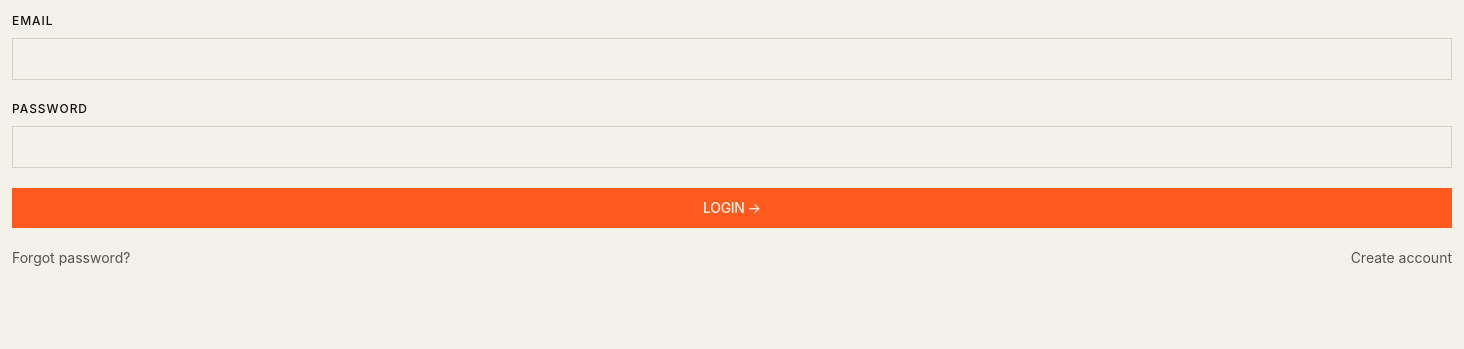
Test: LoginForm › shows the server error message and stays on the page when credentials are wrong
Type "test@example.com" into the field labelled "Email".
click(732, 59); type("test@example.com")  # box x1=12 y1=38 x2=1452 y2=80
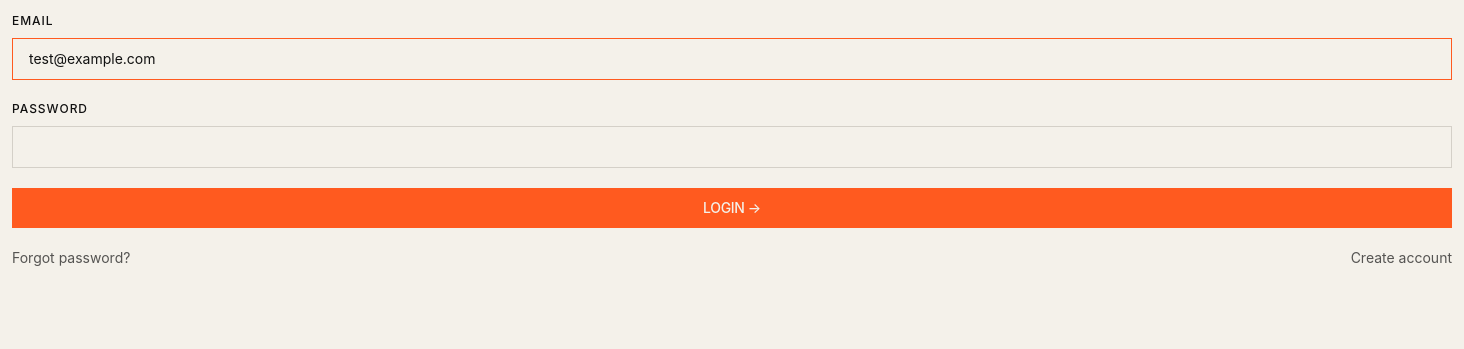
Type "wrong" into the password field labelled "Password".
click(732, 147); type("wrong")  # box x1=12 y1=126 x2=1452 y2=168
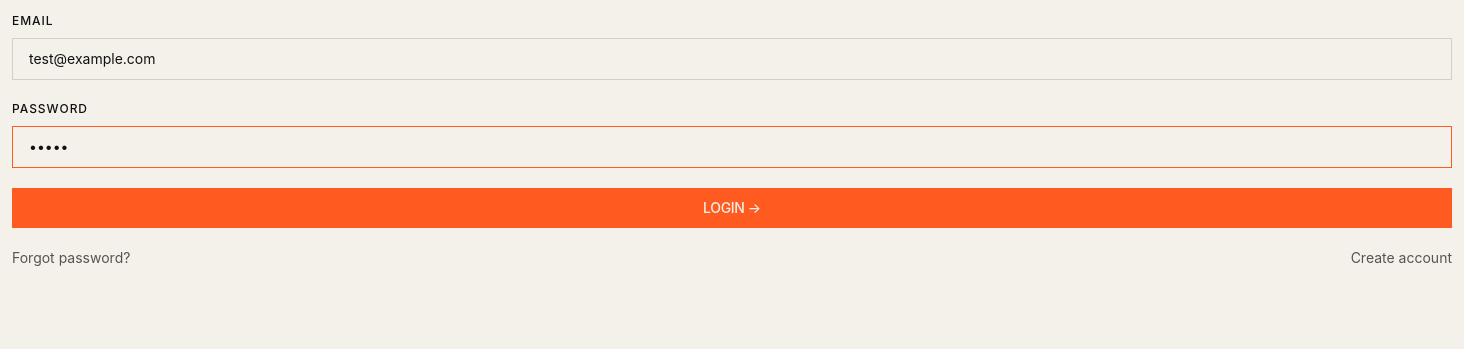
Click the button "LOGIN →".
click(732, 208)  # box x1=12 y1=188 x2=1452 y2=228
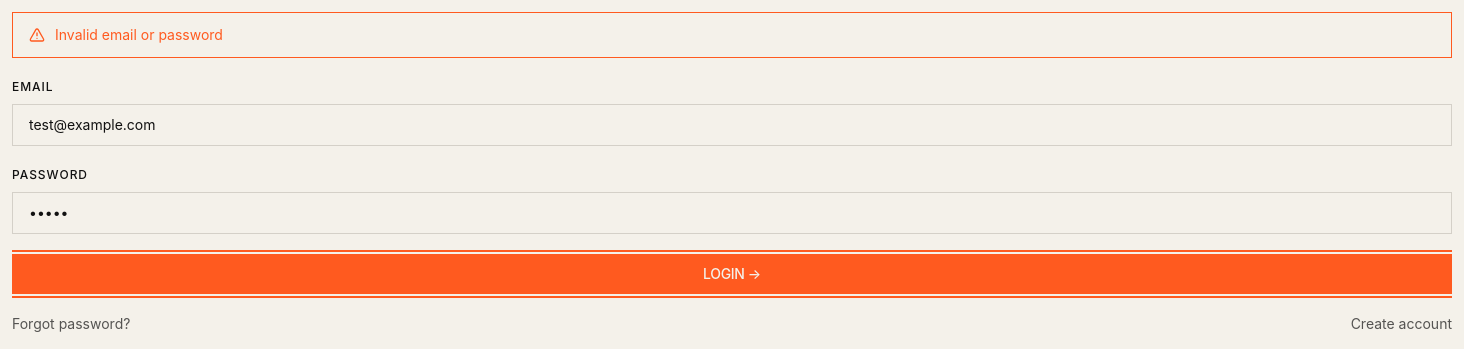
Now the text "Invalid email or password" is shown, box x1=55 y1=25 x2=223 y2=45
